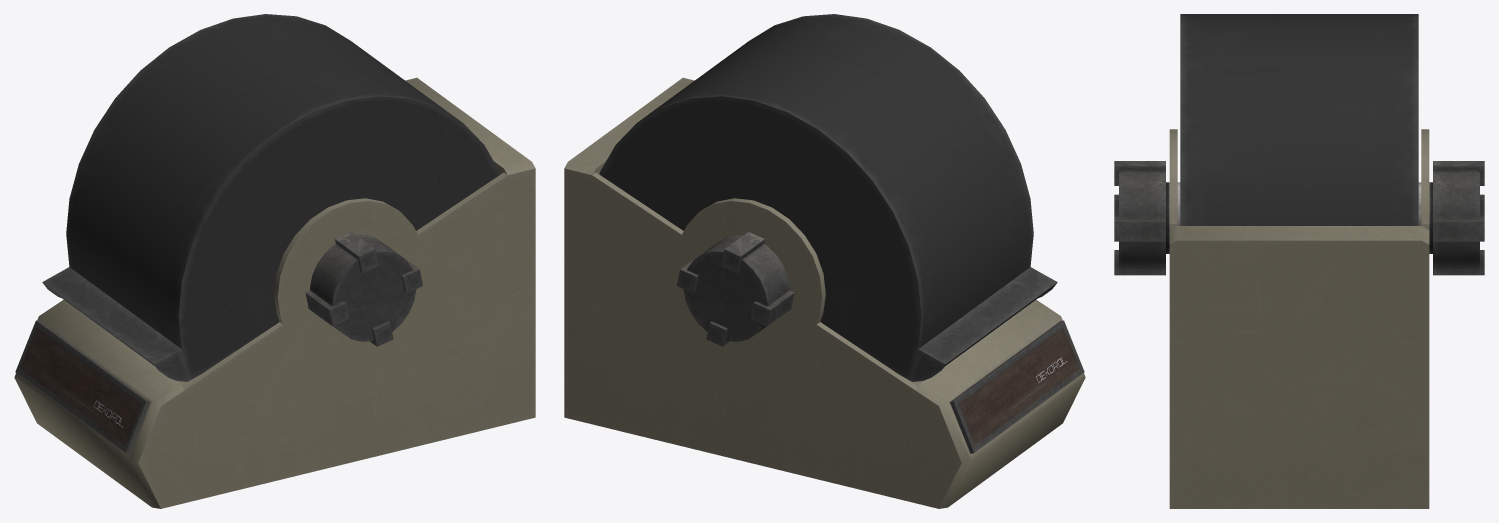
The model's file is SM_Rolodex_01a.fbx.
3 renders of one model, left to right at view 1: azimuth 30°, elevation 25°; view 2: azimuth 150°, elevation 25°; view 3: azimuth 270°, elevation 25°, orthographic. The views are drawn at different scales.
Parts seen in each view (by area): view 1: SM_Rolodex_01a_LOD0; view 2: SM_Rolodex_01a_LOD0; view 3: SM_Rolodex_01a_LOD0.
Boxes of the visible parts, box(x1,y1,x2,y2) form: SM_Rolodex_01a_LOD0: box(14, 14, 535, 508); SM_Rolodex_01a_LOD0: box(564, 14, 1085, 508); SM_Rolodex_01a_LOD0: box(1114, 14, 1484, 508).
Bounding box in the file's own units: 21.38 × 15.99 × 18.11.
